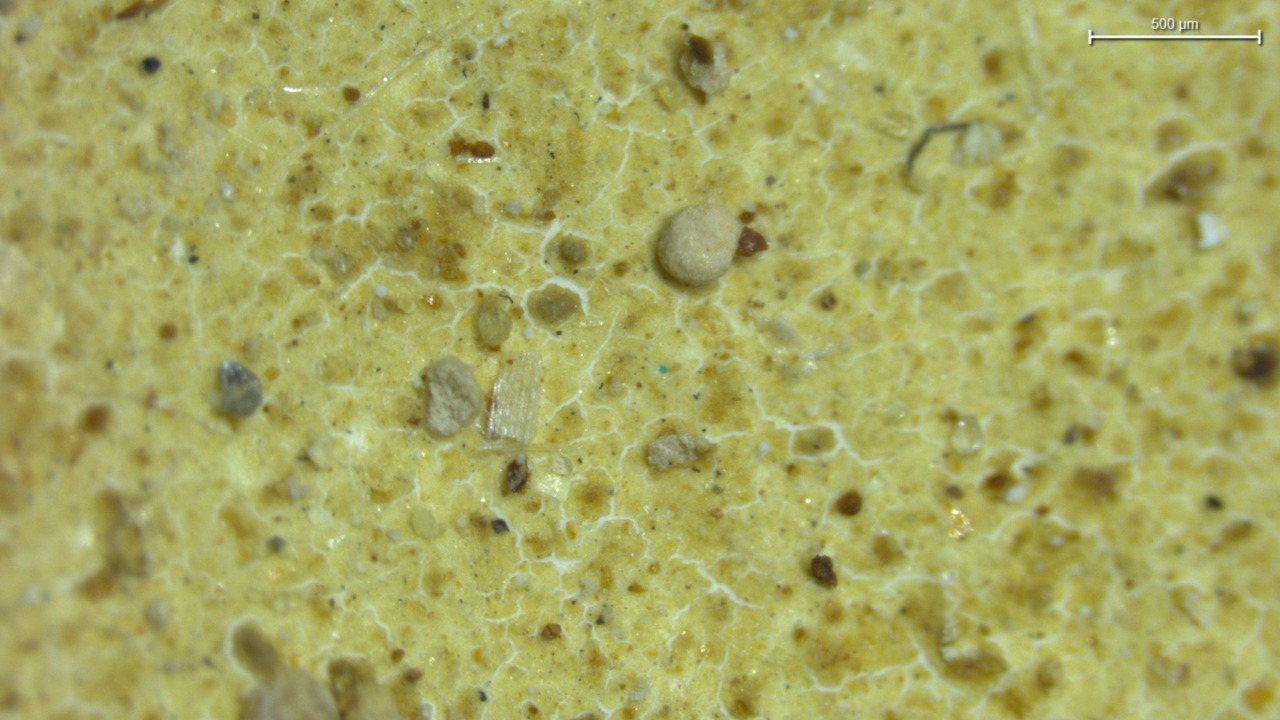microplastic_fragment: (656, 203, 742, 286), (487, 352, 541, 443), (422, 356, 481, 436)
